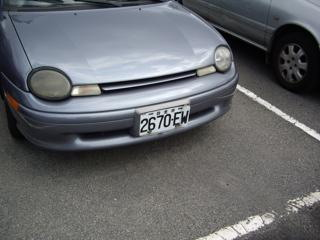plate: (139, 105, 191, 136)
